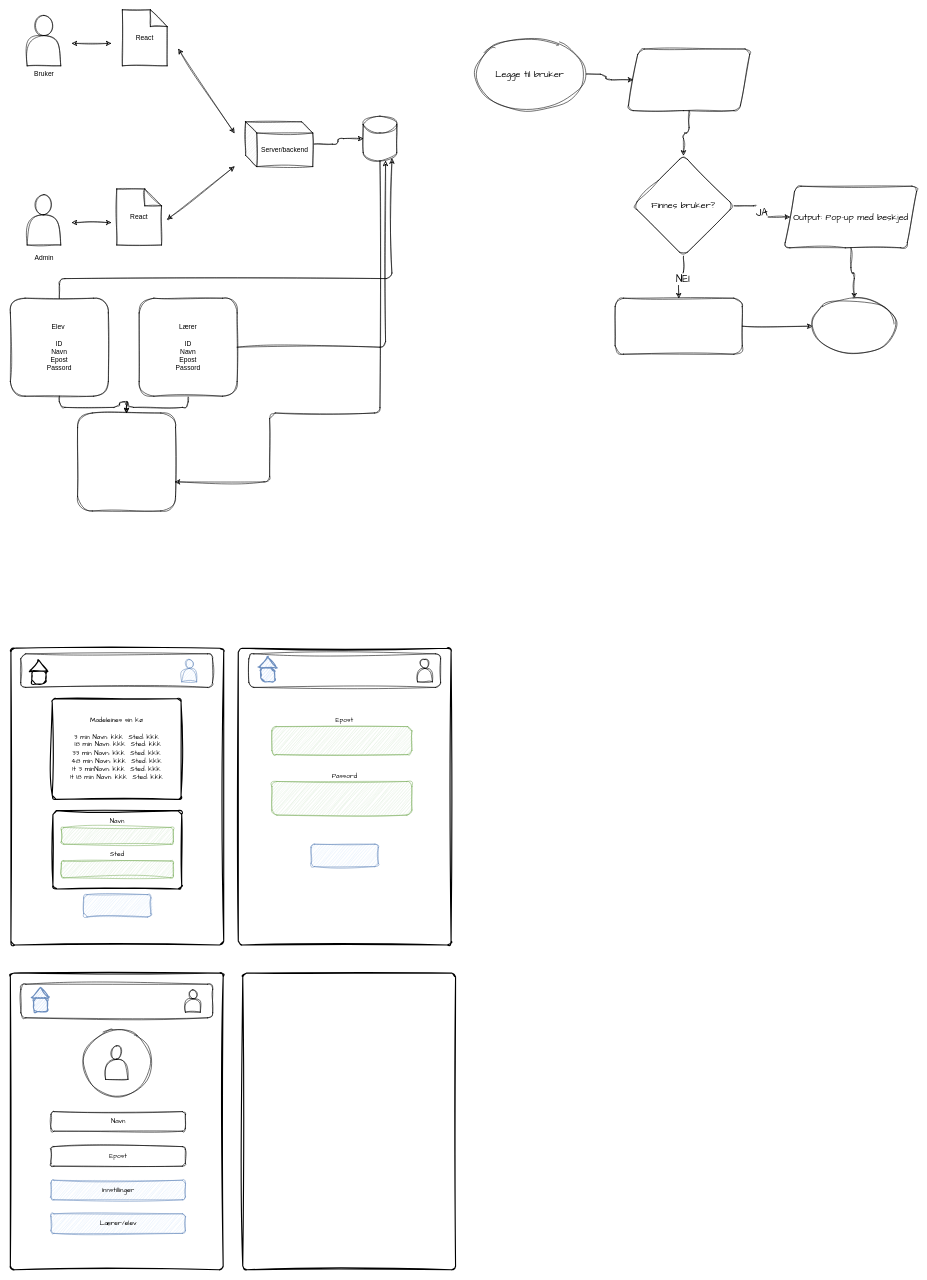
The diagram is 927 pixels wide and 1280 high, and some of its shapes have lost their labels. Here are the shapes that lost their labels. From the top down, the centre of each, then its label:
At pixel 689 79: "Input: Fyll inn alle felter".
At pixel 380 138: "Sql".
At pixel 678 326: "Lagre ny bruker i database".
At pixel 854 326: "Slutt".
At pixel 126 461: "Kø-hendelse ElevID LærerID Sted Tid".
At pixel 344 855: "Logg in".
At pixel 117 905: "Next".
